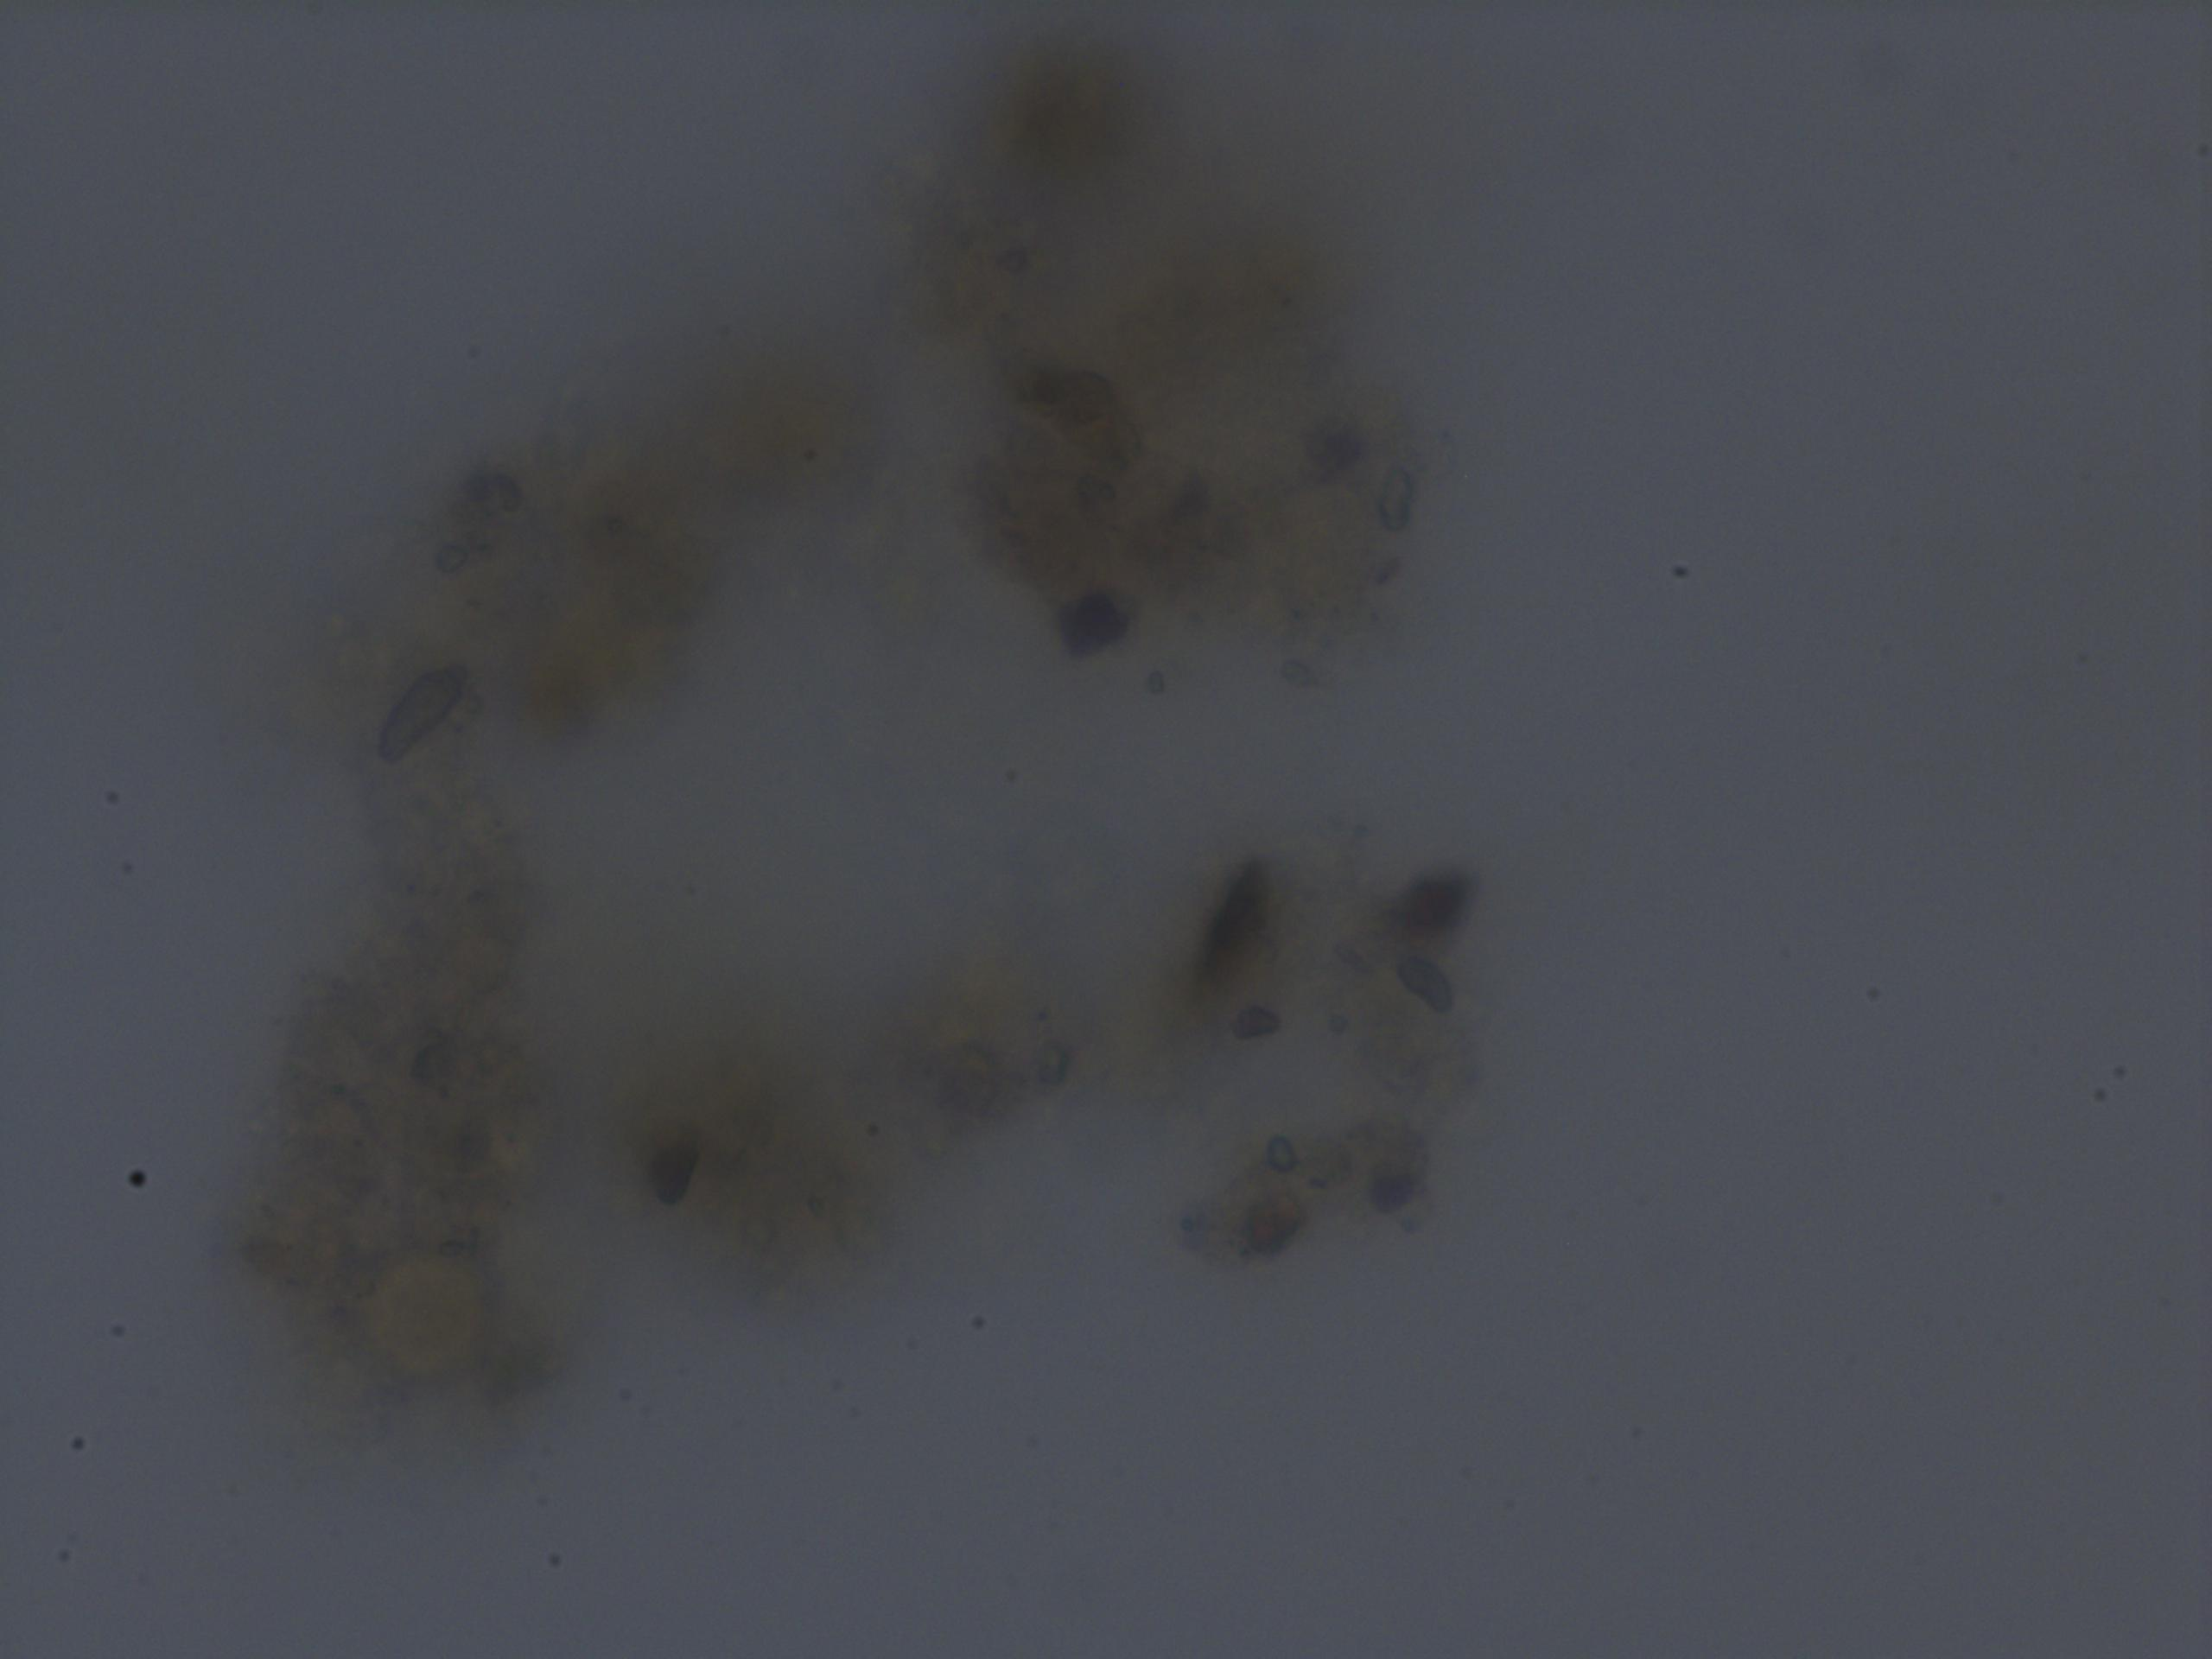open_floc: (232, 0, 1517, 1457)
